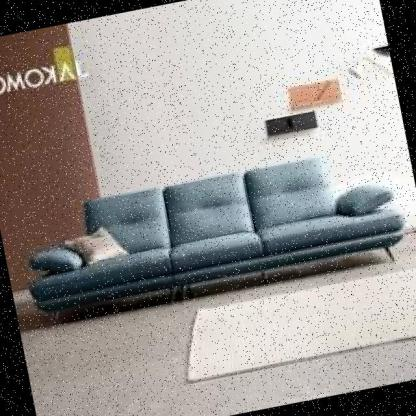Sofa: (0, 133, 416, 356)
